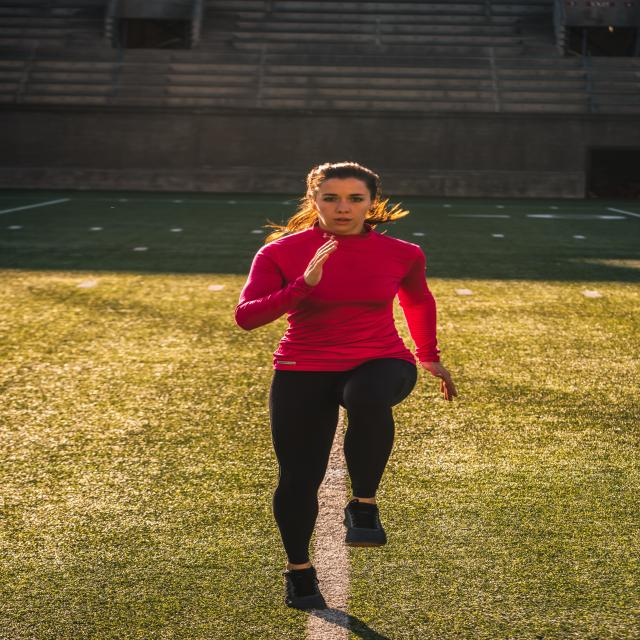running: (234, 158, 460, 614)
